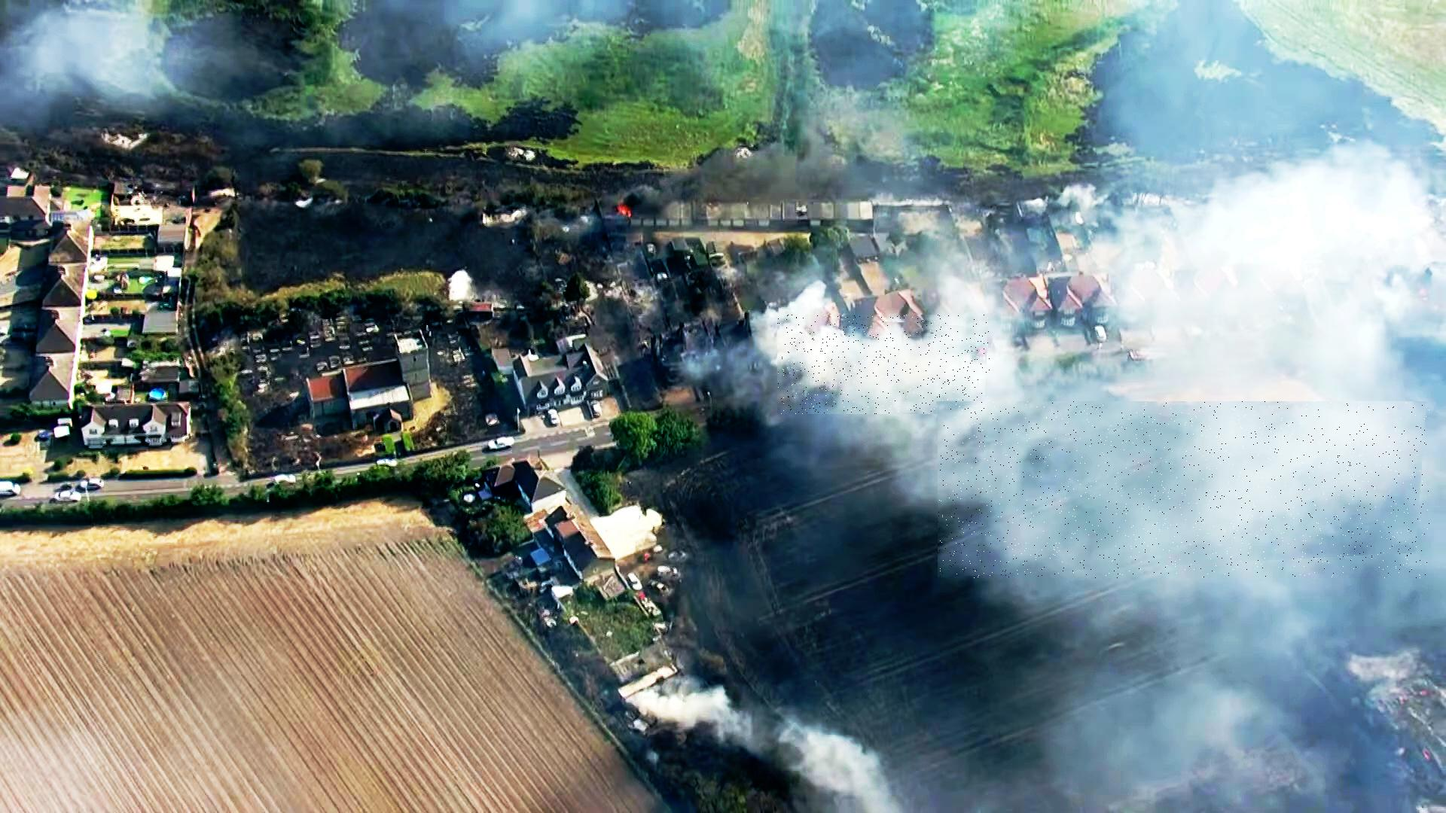smoke: (938, 401, 1430, 578), (778, 315, 990, 414)
